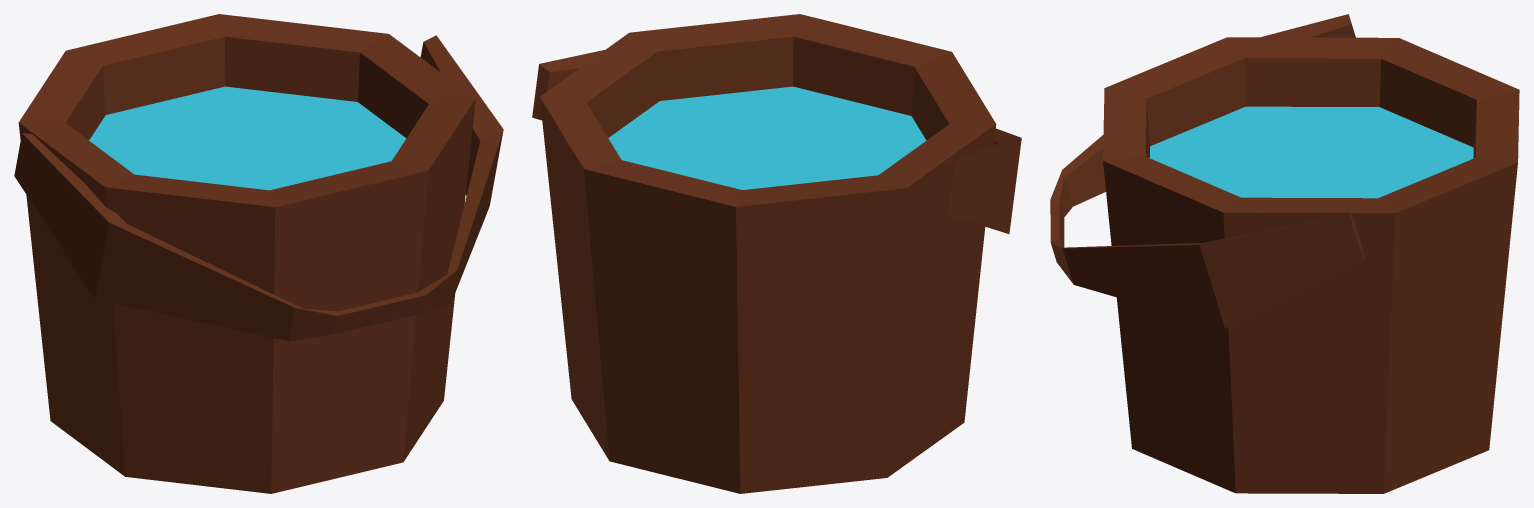
File: Bucket.fbx
3 renders of one model, left to right at view 1: azimuth 30°, elevation 25°; view 2: azimuth 150°, elevation 25°; view 3: azimuth 270°, elevation 25°, orthographic. The views are drawn at different scales.
Visible parts, largest first — view 1: Bucket; view 2: Bucket; view 3: Bucket.
Part boxes in pixels (left/top/right/bottom): Bucket: left=14, top=14, right=503, bottom=493; Bucket: left=532, top=14, right=1021, bottom=493; Bucket: left=1050, top=14, right=1519, bottom=493.
Size of the model in its own units: 101 by 73.17 by 102.
